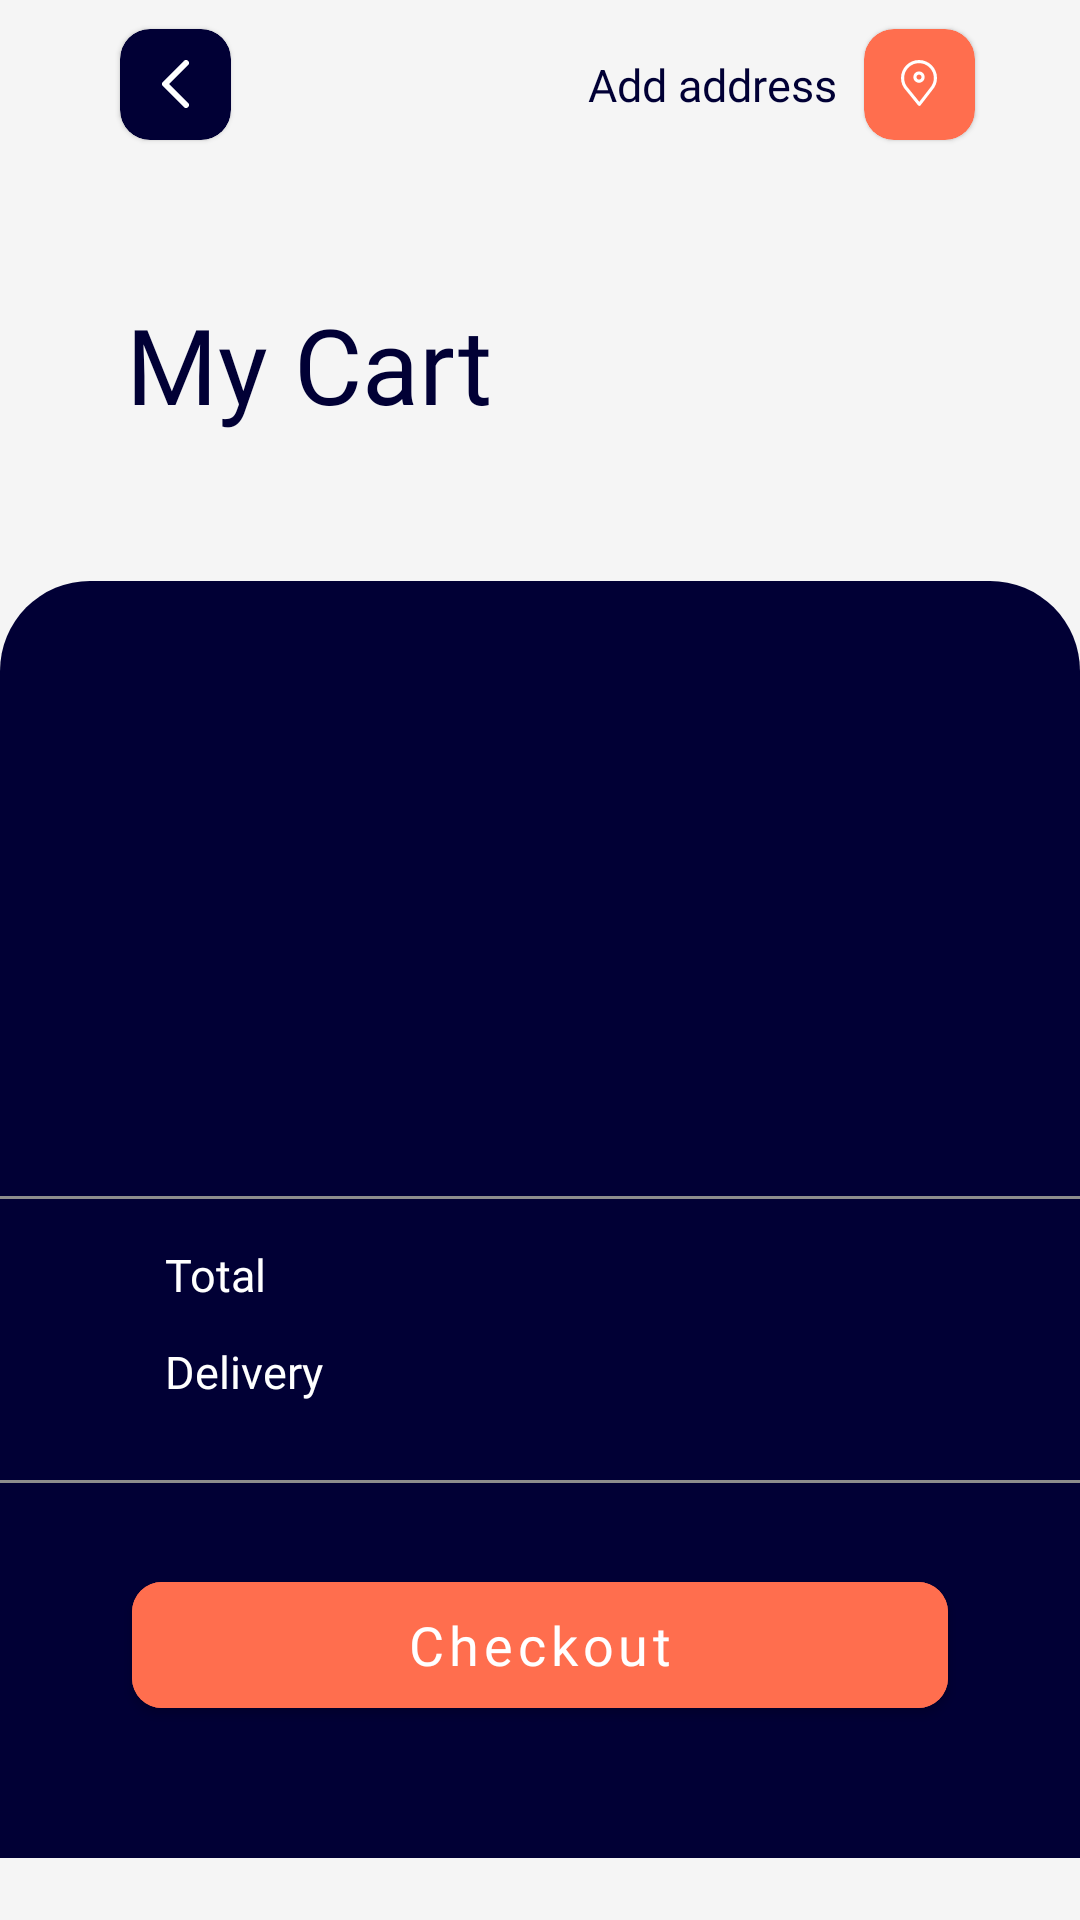

Where to tap for icons on this 1080×1920 app screen, as (x,y):
arrow back: (175,84)
geotag: (919,83)
